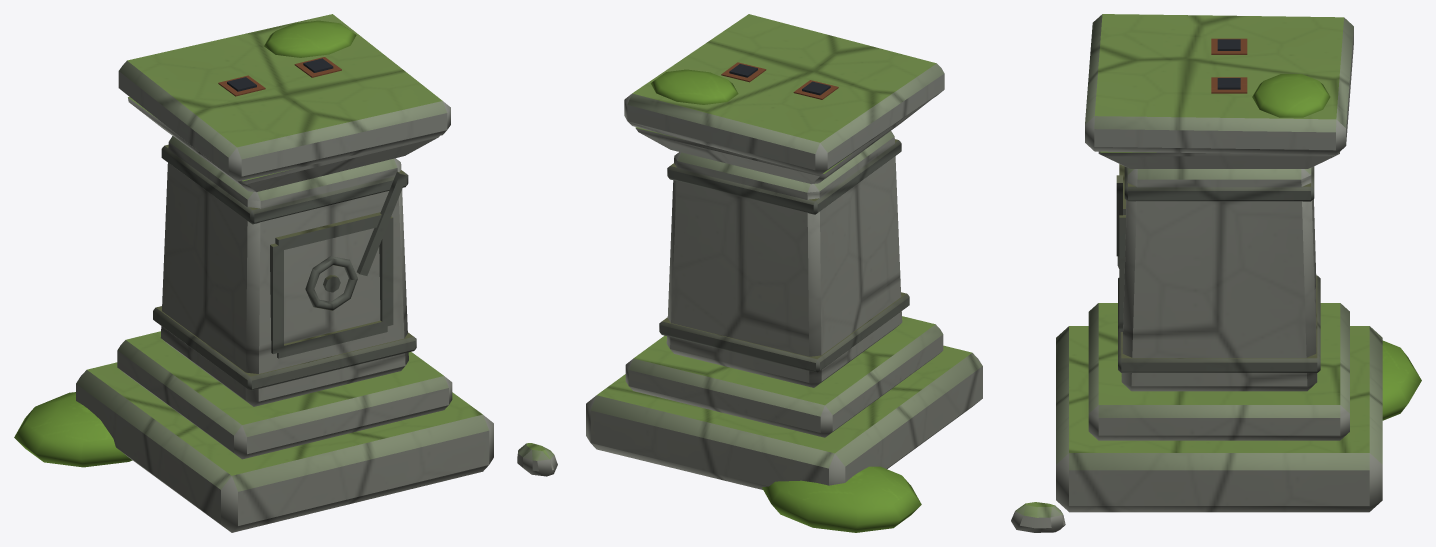
Rendered from stone_pedestal.glb.
3 renders of one model, left to right at view 1: azimuth 30°, elevation 25°; view 2: azimuth 150°, elevation 25°; view 3: azimuth 270°, elevation 25°, orthographic. The views are drawn at different scales.
Parts seen in each view (by area): view 1: stone_pedestal; view 2: stone_pedestal; view 3: stone_pedestal.
Part boxes in pixels (box(x1,y1,x2,y2)): stone_pedestal: box(14, 14, 557, 532); stone_pedestal: box(586, 14, 982, 532); stone_pedestal: box(1011, 14, 1421, 532).
Bounding box in the file's own units: 1.38 × 1.39 × 1.26.
Materials: 5 (5 with a texture image).
